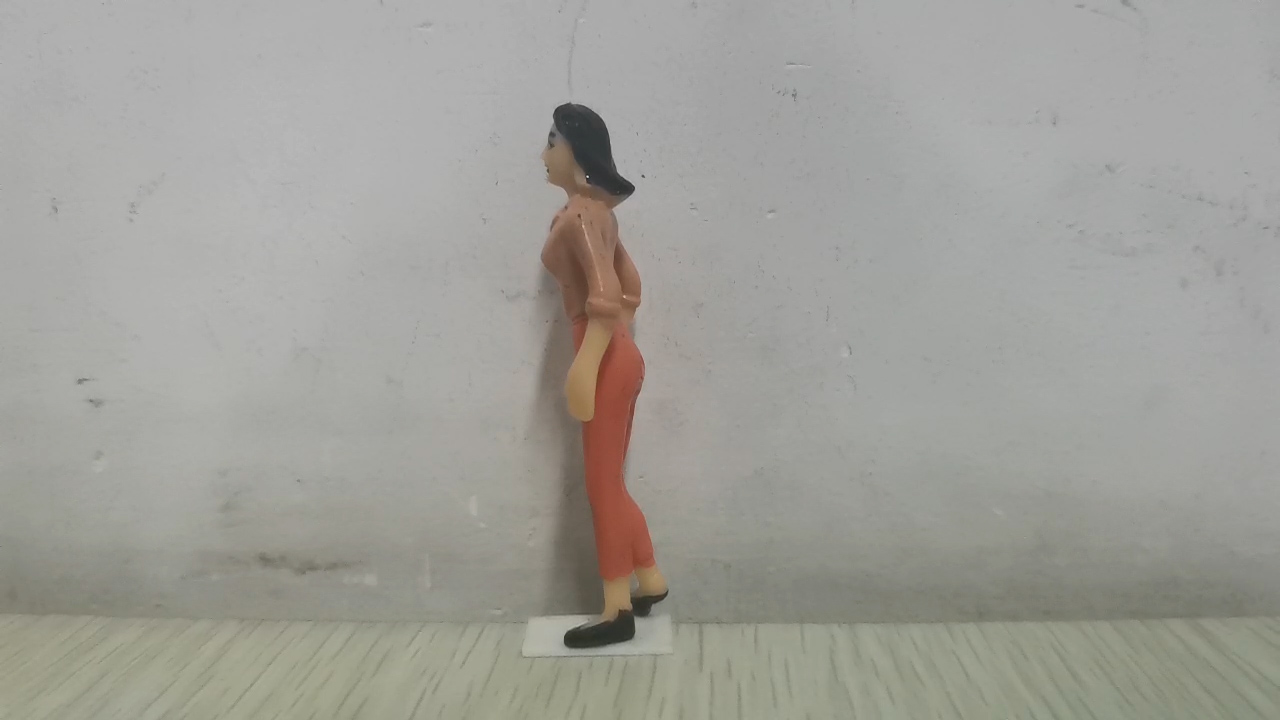person: (534, 100, 671, 650)
